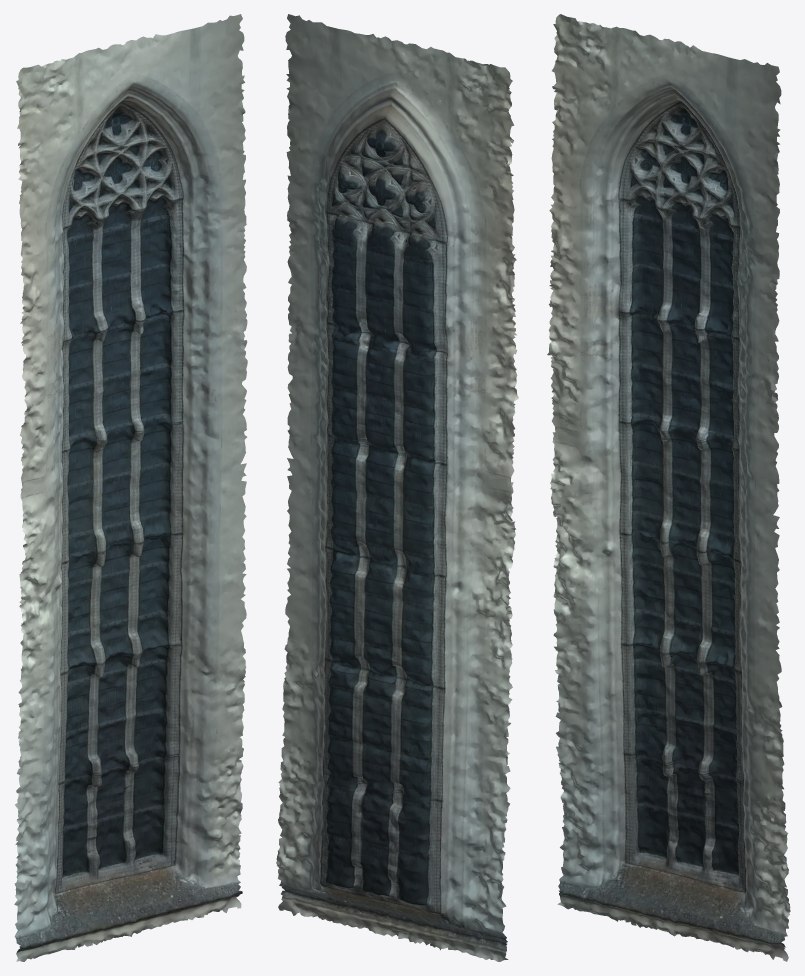
File: gothic_window_a11ab8.glb
3 views of the same model, side by side, from view 1: azimuth 30°, elevation 25°; view 2: azimuth 150°, elevation 25°; view 3: azimuth 330°, elevation 25° (orthographic).
Visible parts, largest first — view 1: Object_2; view 2: Object_2; view 3: Object_2.
Boxes of the visible parts, box(x1,y1,x2,y2) form: Object_2: box(14, 14, 247, 961); Object_2: box(276, 14, 518, 961); Object_2: box(547, 14, 790, 961).
Bounding box in the file's own units: 5.22 × 19.47 × 1.25.
Materials: 1 (1 with a texture image).
